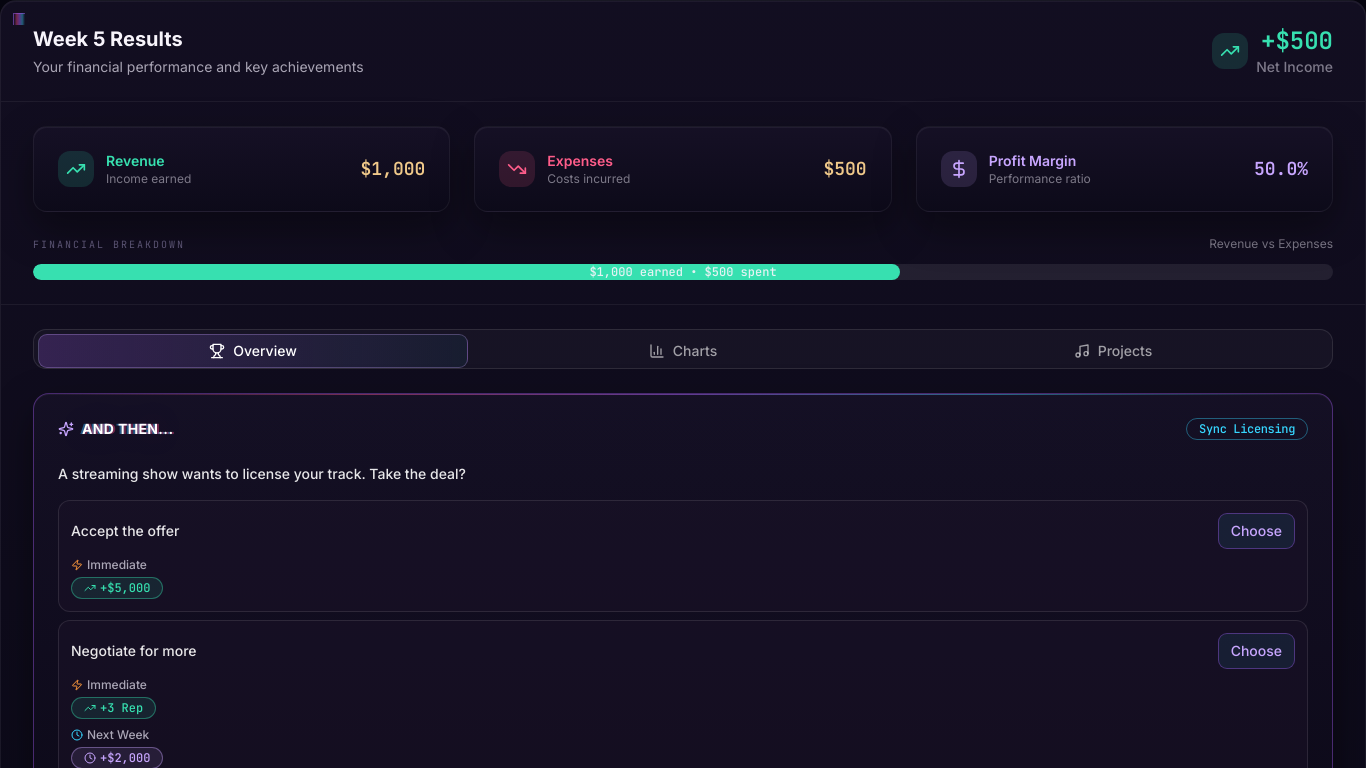
Test: WeekSummary side-event beat › POSTs the right body via resolveSideEvent on choice click and shows the resolved state
The width and height of the screenshot is (1366, 768).
Click the button "Choose" in the row of "Accept the offer": [1256, 531] box [1218,513,1295,549]
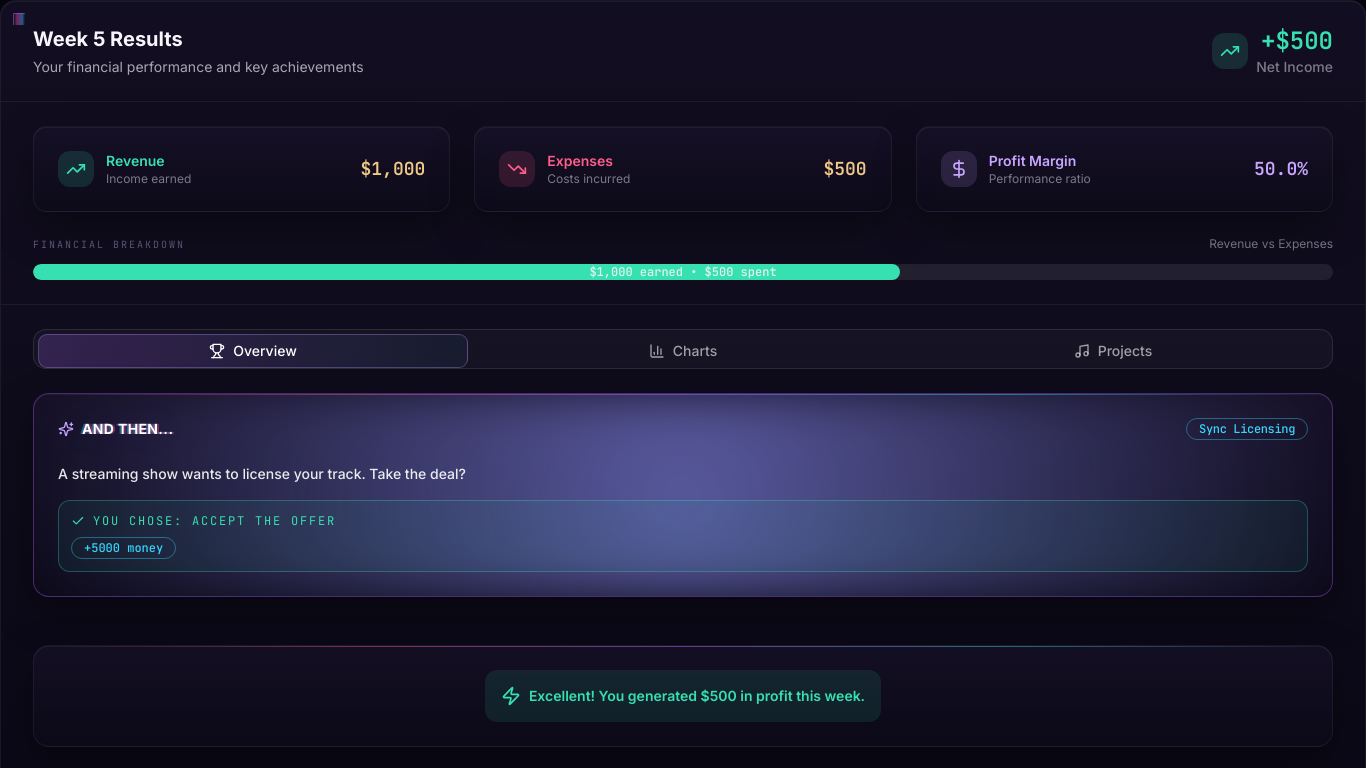
Expected: the text "You chose: Accept the offer" is shown, [93,513,336,529]
Expected: the text "+5000 money" is shown, [71,537,176,559]
